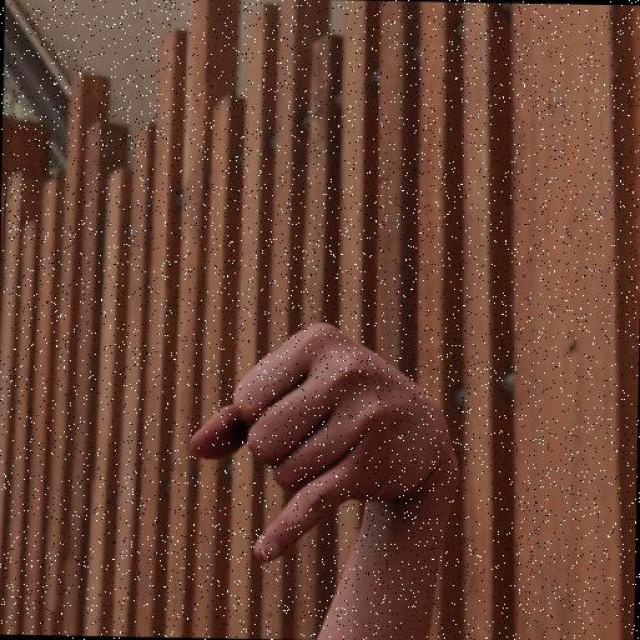J: (152, 296, 468, 625)
